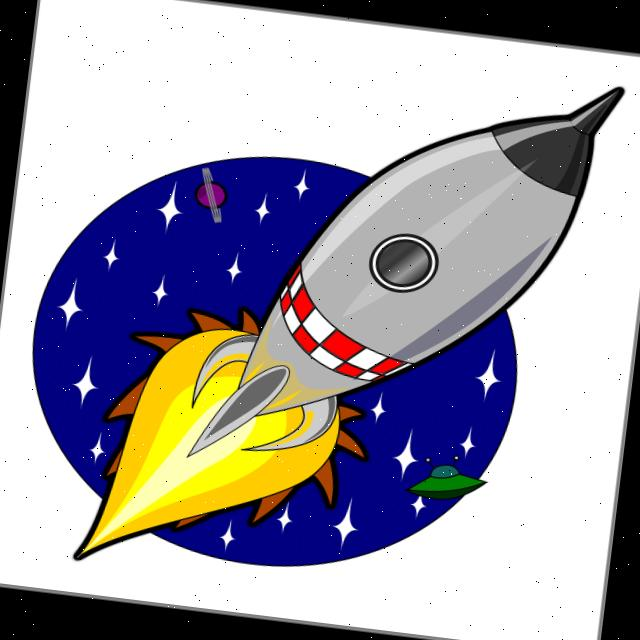rocket: (170, 72, 631, 468)
